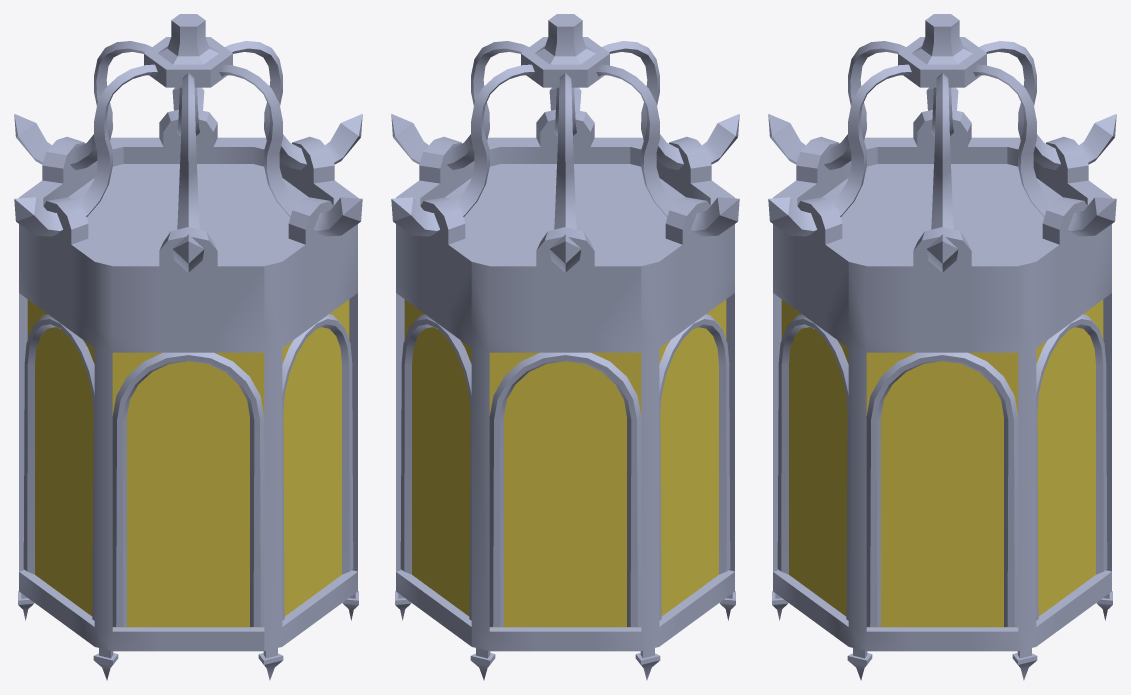
The model's file is SM_Blockout_Ruins_Lantern_01.fbx.
The picture shows the model from 3 angles, left to right: view 1: azimuth 30°, elevation 25°; view 2: azimuth 150°, elevation 25°; view 3: azimuth 270°, elevation 25°; orthographic projection.
Visible parts, largest first — view 1: Cylinder; view 2: Cylinder; view 3: Cylinder.
Boxes of the visible parts, box(x1,y1,x2,y2) form: Cylinder: box(14, 14, 362, 680); Cylinder: box(391, 14, 739, 680); Cylinder: box(768, 14, 1116, 680).
Bounding box in the file's own units: 30.43 × 50.16 × 26.36.
